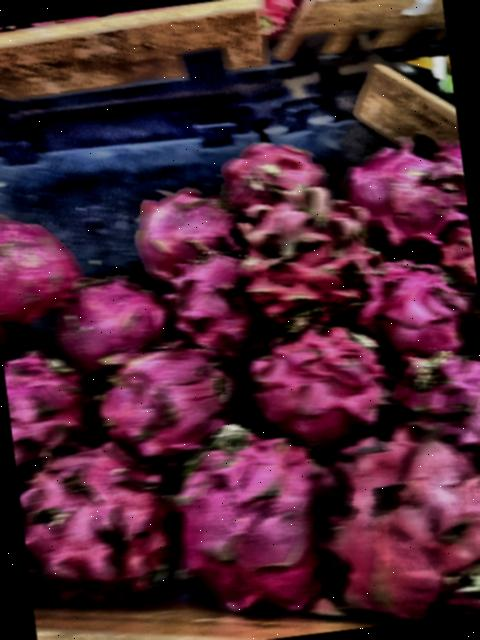buah-naga-belum-matang: (309, 428, 480, 631), (224, 180, 388, 339)
buah-naga-matang: (171, 417, 341, 616), (18, 432, 181, 608), (226, 316, 394, 449), (92, 336, 241, 453), (336, 128, 471, 256), (360, 242, 476, 366), (385, 340, 480, 482), (1, 333, 102, 466), (47, 269, 179, 370), (0, 202, 94, 330), (214, 122, 330, 218), (166, 254, 260, 356), (127, 196, 221, 268)
